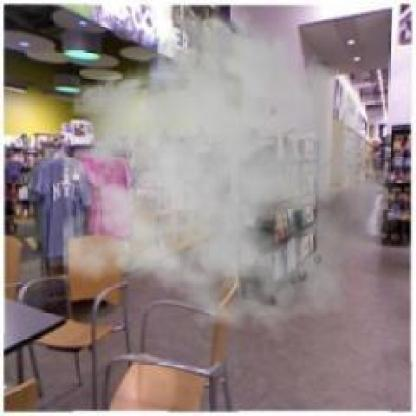Smoke: (63, 1, 400, 340)
